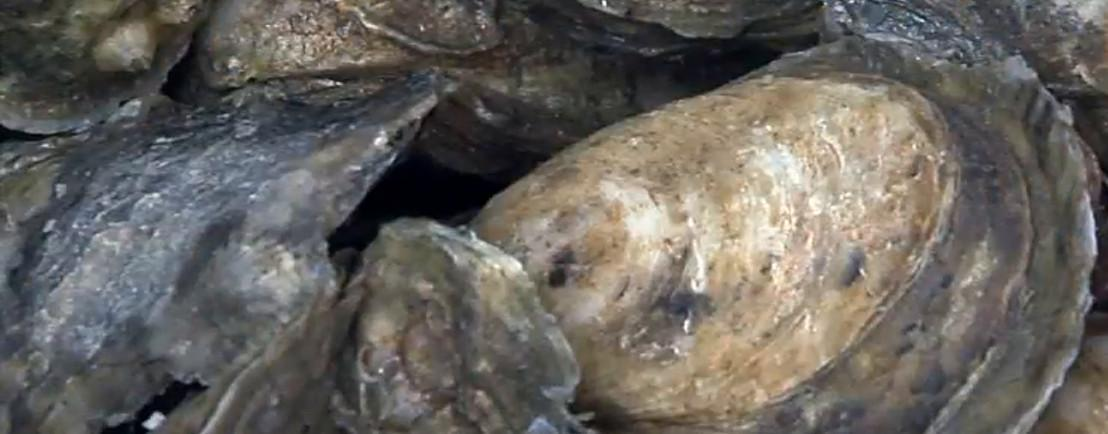3: (0, 0, 209, 136), (523, 0, 824, 57), (321, 0, 504, 55)
Oyster-Closed: (0, 70, 442, 434), (150, 219, 578, 434)
Oyster-Open: (464, 37, 1098, 434), (169, 0, 772, 178), (821, 0, 1108, 99), (1030, 314, 1108, 434)
